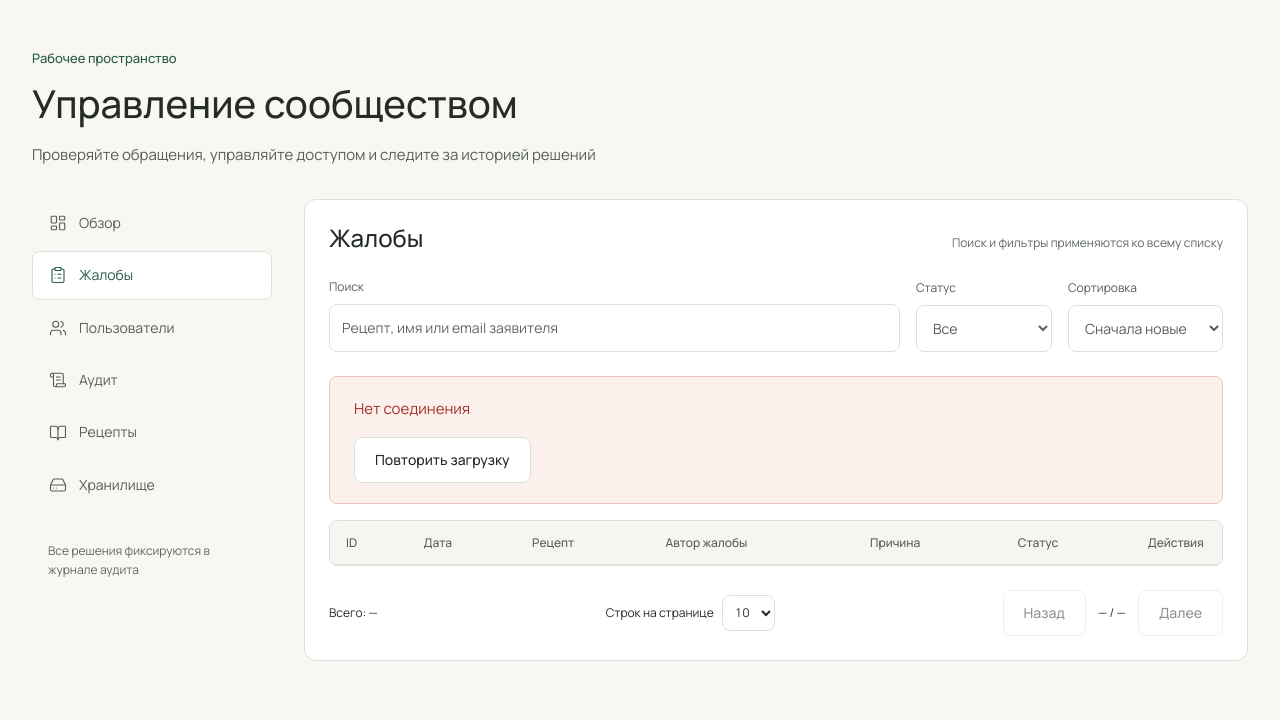
Test case: показывает ошибки загрузки и безопасно запрещает самоблокировку
This screenshot has width=1280, height=720.
Expected: the message shows "Нет соединения", [354,398,470,419]
What coordinates should you click on to do the following:
click the link "Пользователи"
I would click on:
 (112, 327)
Its box is [49,318,174,337].
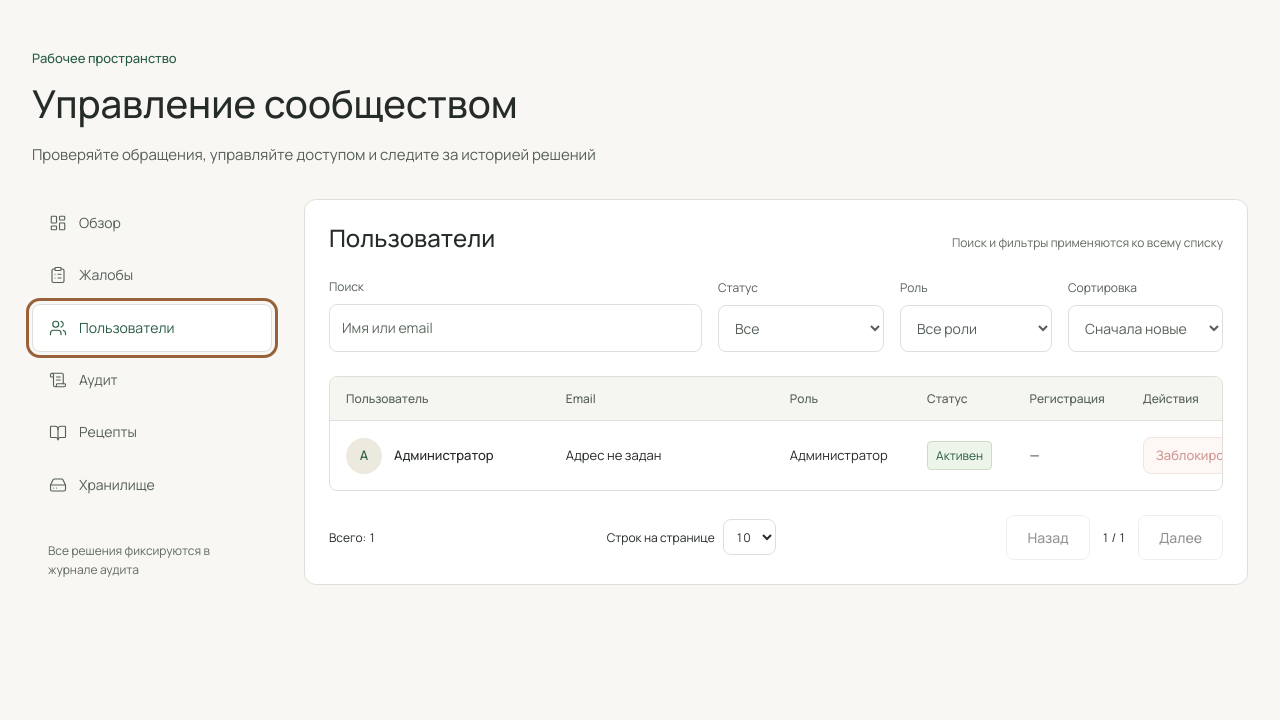
Now the button "Заблокировать" is disabled, box [1143,437,1223,474]
